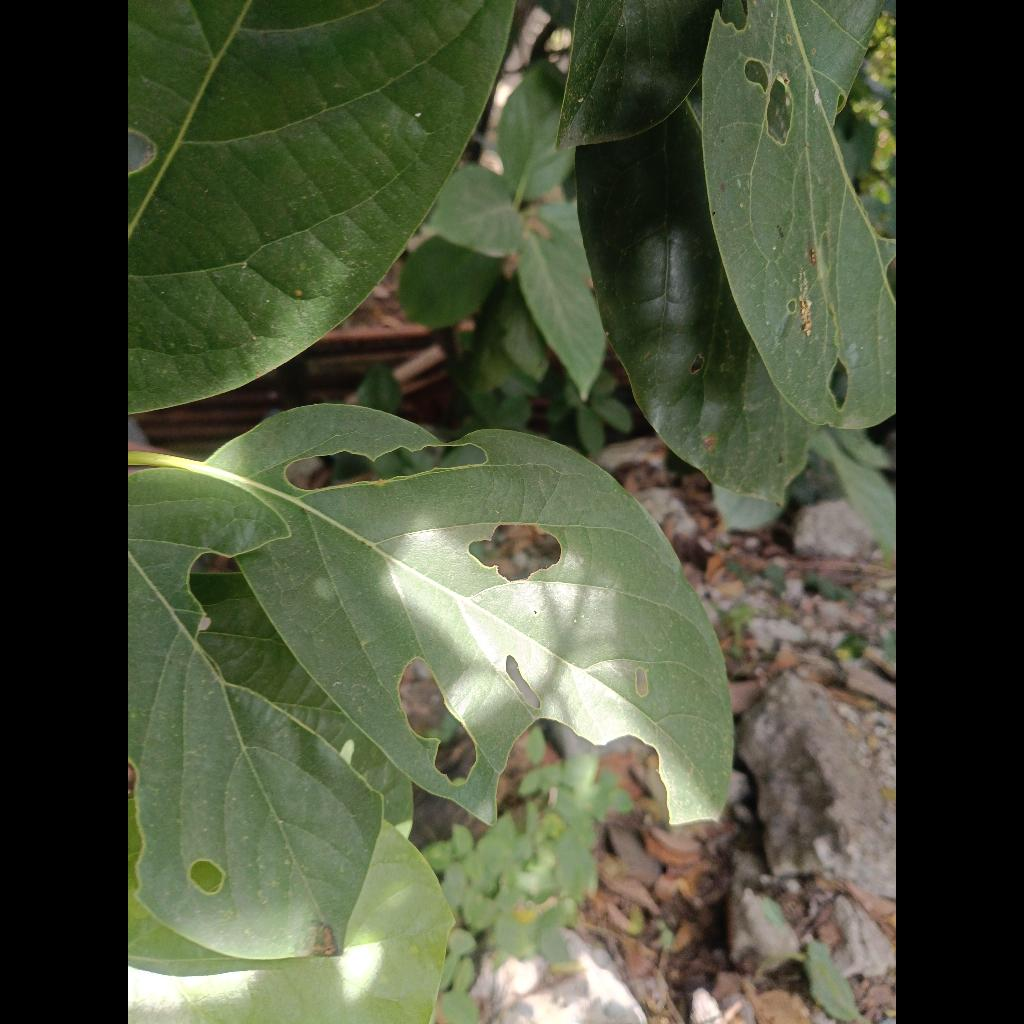plaga: (128, 405, 731, 823), (128, 469, 382, 967)
